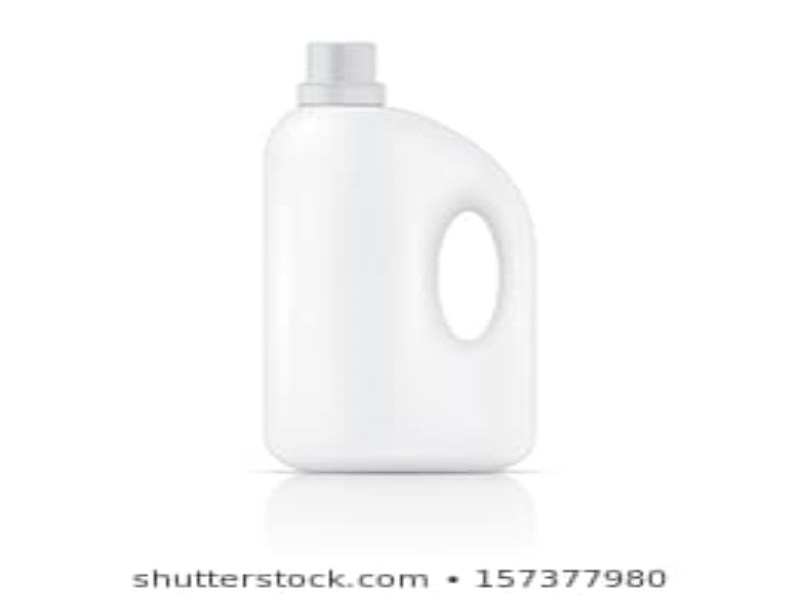detergent-bottle: (260, 38, 540, 479)
